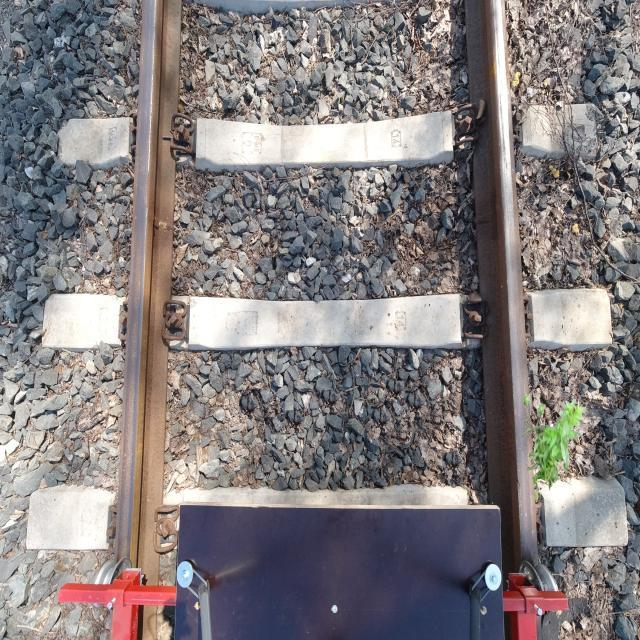Plant: (522, 393, 586, 500)
